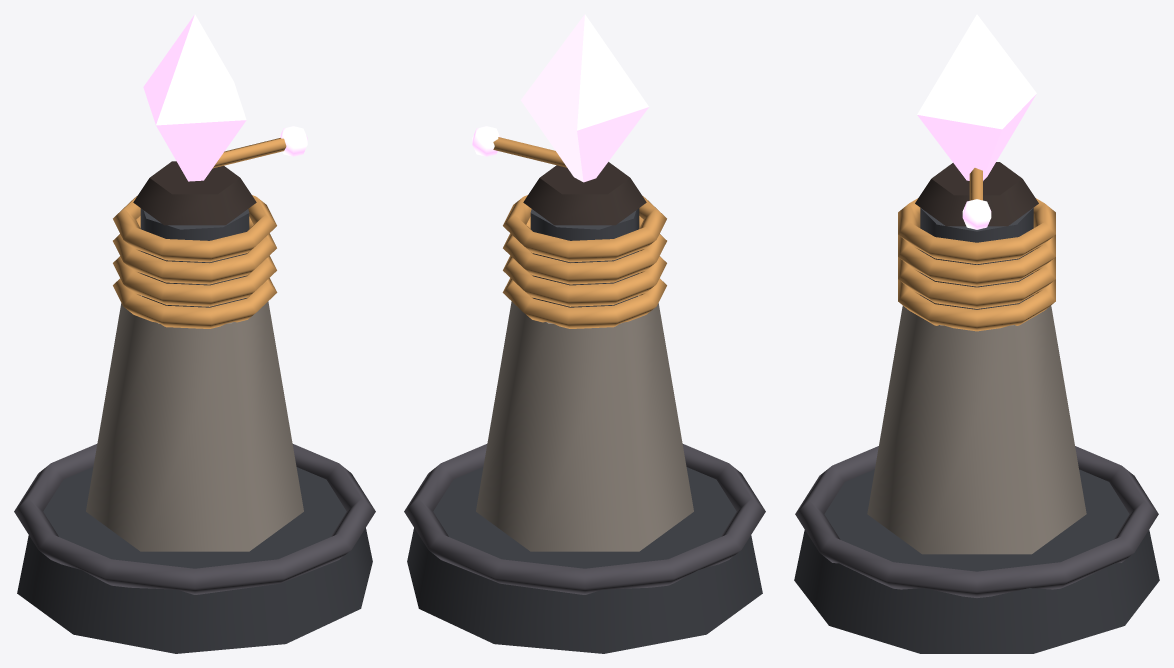
Rendered from tower_chain_overload.glb.
The picture shows the model from 3 angles, left to right: view 1: azimuth 30°, elevation 25°; view 2: azimuth 150°, elevation 25°; view 3: azimuth 270°, elevation 25°; orthographic projection.
Visible parts, largest first — view 1: shaft, base, base_rim, crystal_core, cap, coil_3, coil_2, coil_1, coil_0, coil_core, emitter_rod, emitter_orb; view 2: shaft, base, base_rim, crystal_core, cap, coil_3, coil_2, coil_1, coil_0, coil_core, emitter_rod, emitter_orb; view 3: shaft, base, base_rim, crystal_core, cap, coil_3, coil_2, coil_1, coil_0, coil_core, emitter_orb.
Boxes of the visible parts, x1,y1,x2,y2 form: shaft: (86,295,303,551); base: (17,467,372,653); base_rim: (14,444,375,594); crystal_core: (143,14,246,181); cap: (133,161,256,225); coil_3: (113,195,276,262); coil_2: (113,216,276,284); coil_1: (113,255,276,306); coil_0: (113,278,277,328); coil_core: (140,208,249,307); emitter_rod: (213,138,286,168); emitter_orb: (279,126,307,156); shaft: (476,295,693,551); base: (407,467,762,653); base_rim: (404,444,765,594); crystal_core: (521,14,648,182); cap: (523,162,646,225); coil_3: (503,195,666,262); coil_2: (503,216,666,284); coil_1: (503,255,666,306); coil_0: (502,278,666,328); coil_core: (530,208,639,307); emitter_rod: (493,137,566,167); emitter_orb: (472,126,499,156); shaft: (867,305,1086,554); base: (794,469,1159,653); base_rim: (795,446,1158,597); crystal_core: (917,14,1036,180); cap: (915,162,1038,226); coil_3: (898,198,1055,264); coil_2: (898,234,1055,286); coil_1: (898,257,1055,308); coil_0: (898,279,1055,331); coil_core: (920,208,1033,309); emitter_orb: (962,199,991,229).
Size of the model in its own units: 0.398 by 0.6838 by 0.4.
